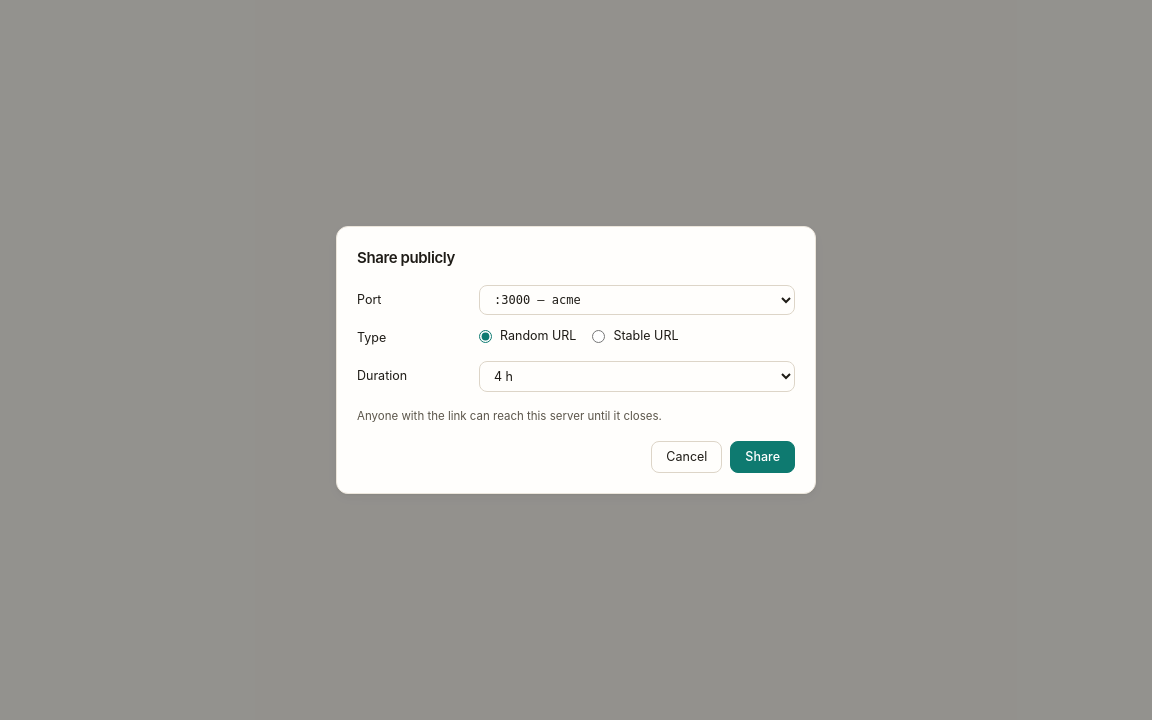
Test case: ShareDialog › clears a stale remembered name while the name of another port loads
Click the radio button labelled "Stable URL" at x=599, y=337, box [592, 330, 605, 343]
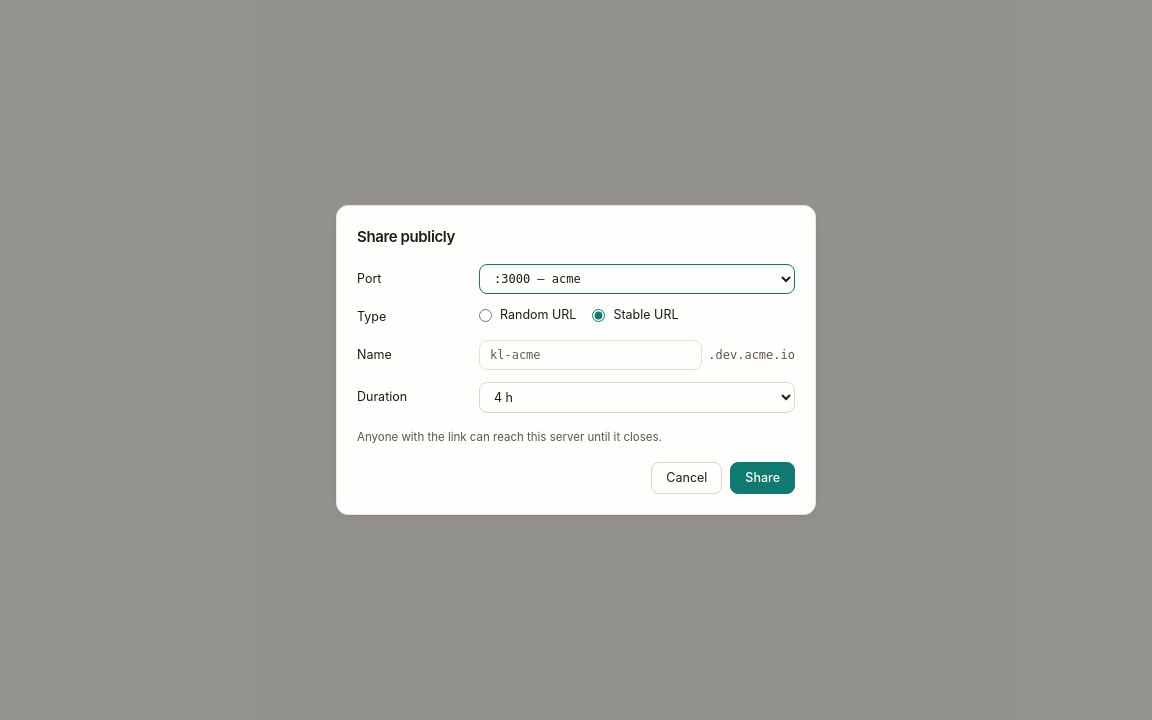
Select ":4000 — api" in the dropdown with id "share-port" at x=637, y=279, box [479, 264, 795, 294]
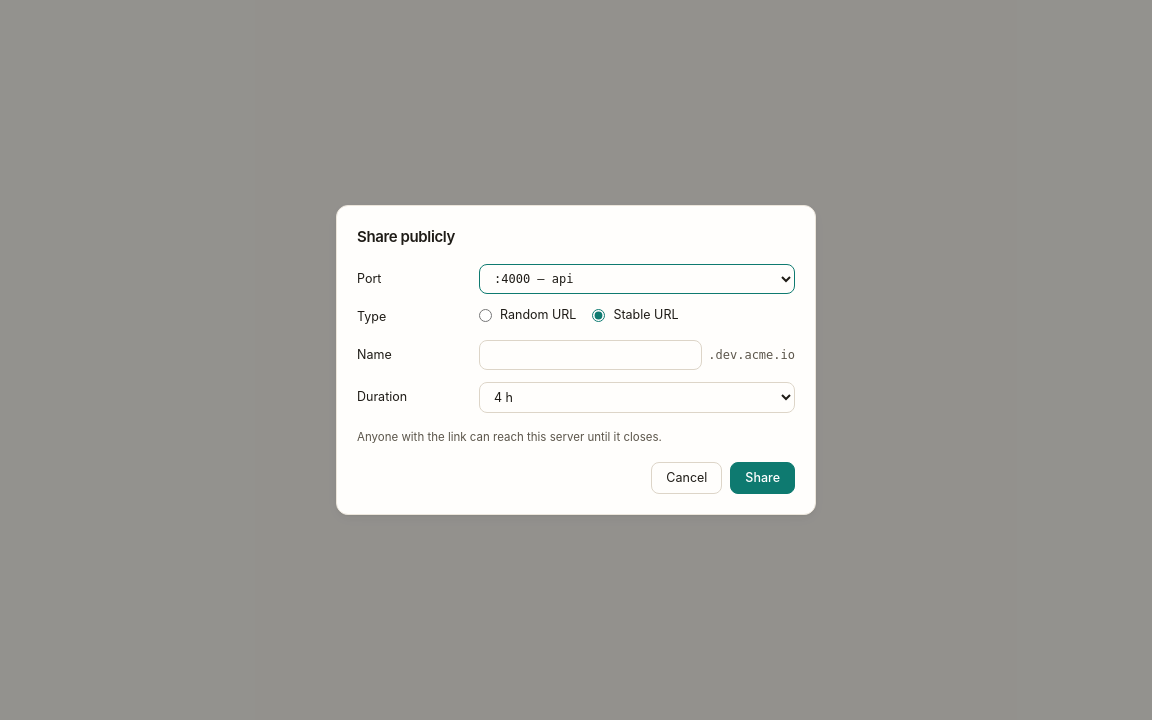
expect the field with id "share-name" is empty: met, box [479, 340, 702, 370]
Submit the dialog, box [336, 205, 816, 515]
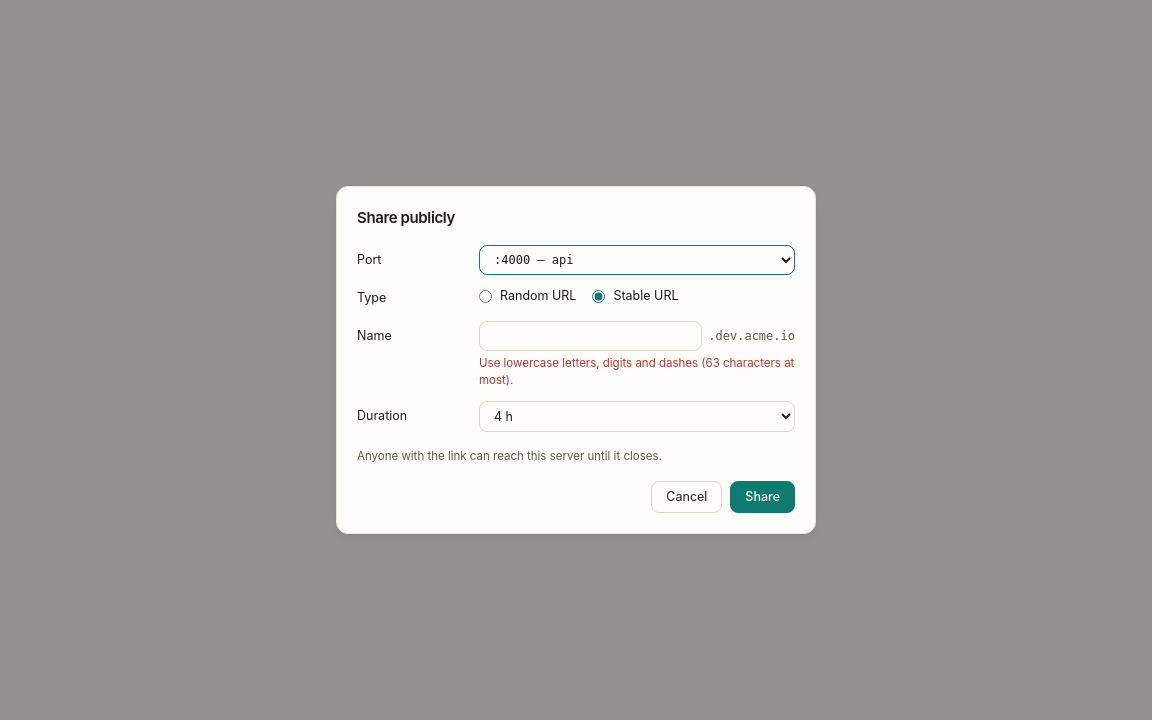
expect the message "Use lowercase letters, digits and dashes (63 characters at most)." is shown: met, box [479, 355, 795, 389]
